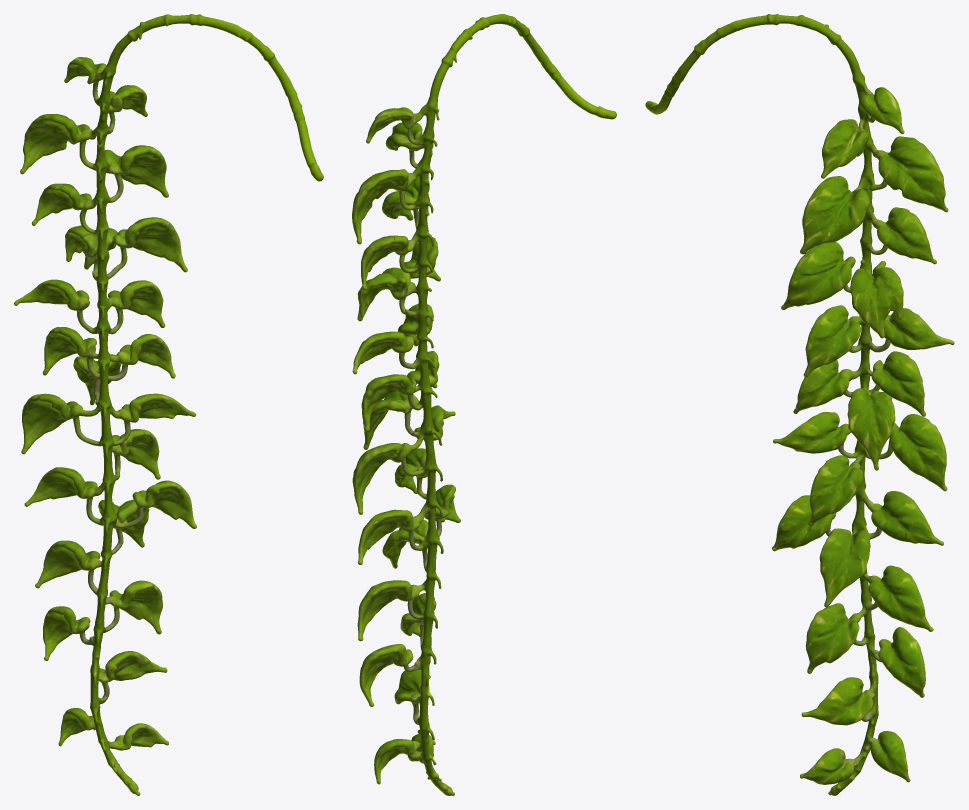
File: vine.glb
3 renders of one model, left to right at view 1: azimuth 90°, elevation 25°; view 2: azimuth 150°, elevation 25°; view 3: azimuth 270°, elevation 25°, orthographic. The views are drawn at different scales.
Visible parts, largest first — view 1: tripo_node_51bd075e-c5dc-49d5-a00a-ca43b9c2616f; view 2: tripo_node_51bd075e-c5dc-49d5-a00a-ca43b9c2616f; view 3: tripo_node_51bd075e-c5dc-49d5-a00a-ca43b9c2616f.
Part boxes in pixels (x1,y1,x2,y2): tripo_node_51bd075e-c5dc-49d5-a00a-ca43b9c2616f: [14, 14, 323, 795]; tripo_node_51bd075e-c5dc-49d5-a00a-ca43b9c2616f: [352, 14, 616, 795]; tripo_node_51bd075e-c5dc-49d5-a00a-ca43b9c2616f: [645, 14, 954, 795].
Bounding box in the file's own units: 0.2018 × 1 × 0.3592.
Materials: 1 (1 with a texture image).
